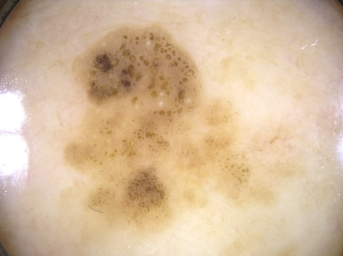seborrheic keratosis: (57, 17, 269, 236)
